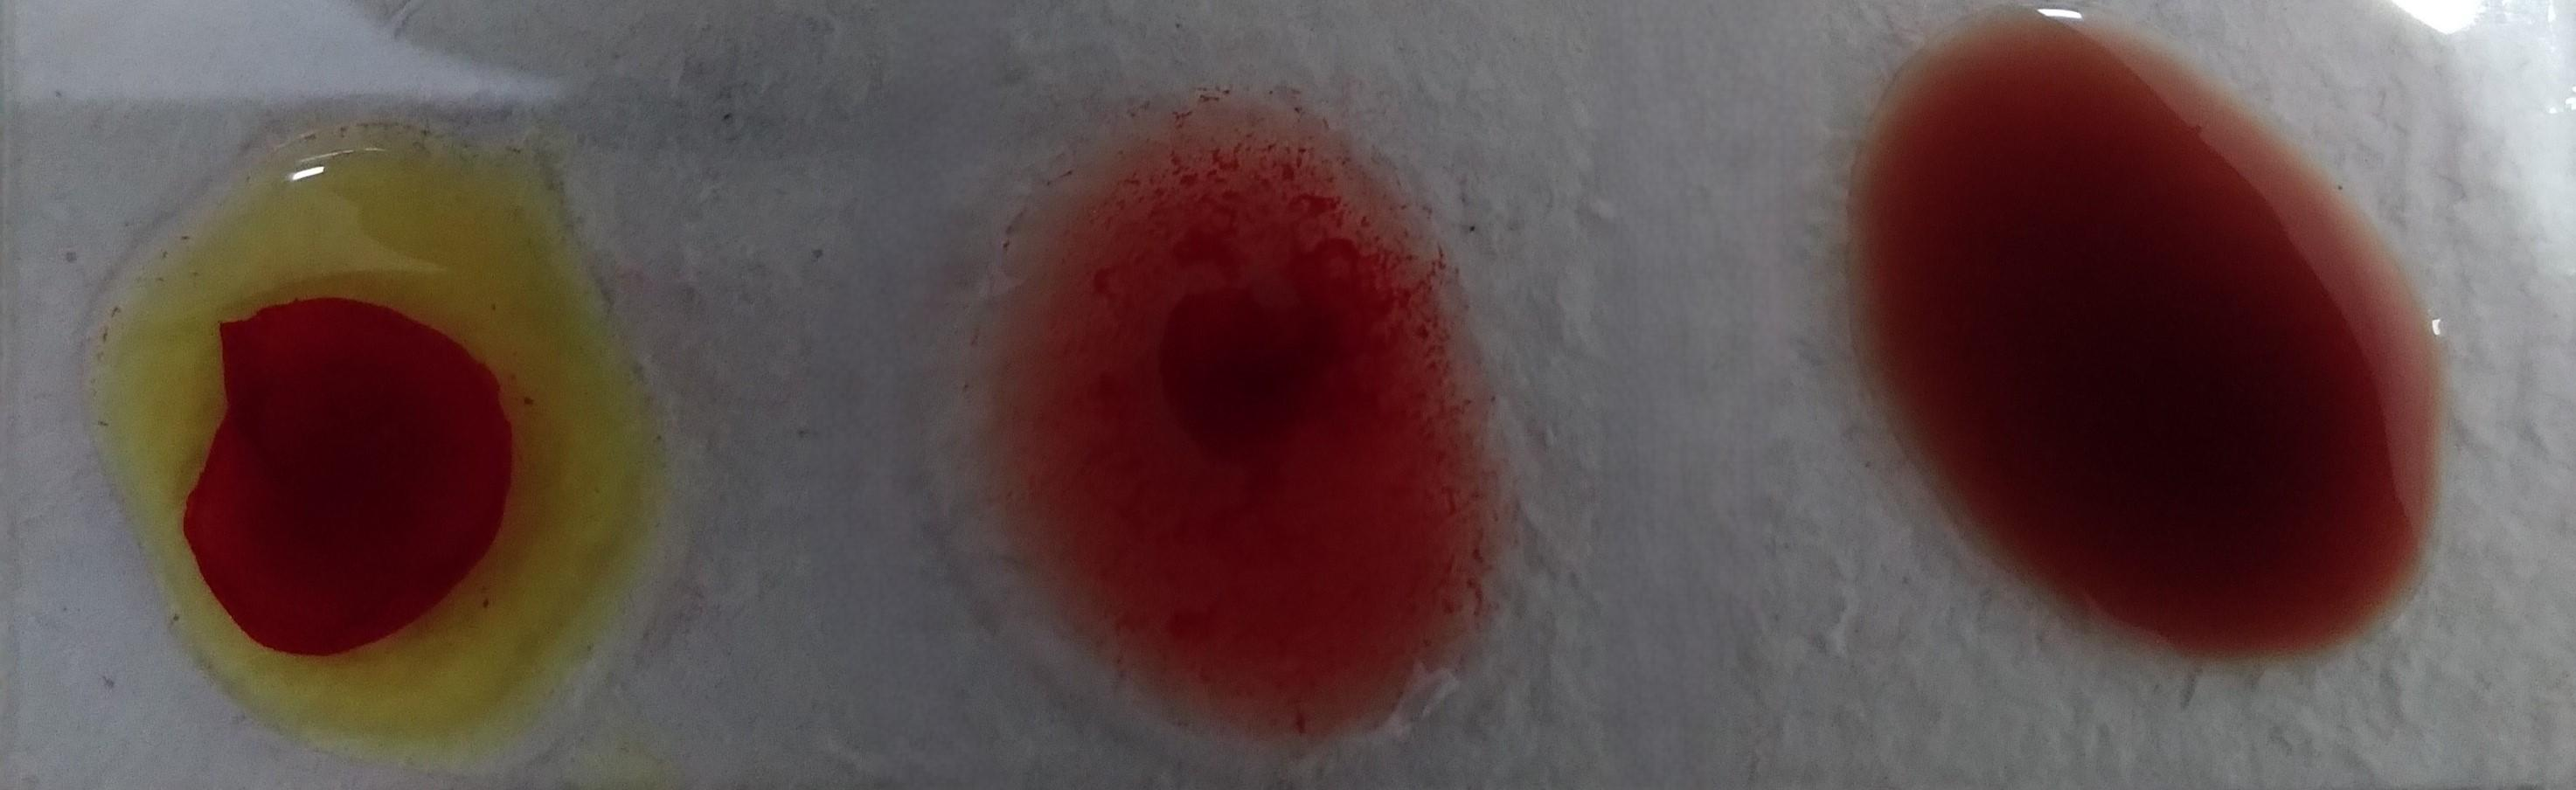B: (115, 138, 611, 770)
D: (979, 100, 1493, 769)
